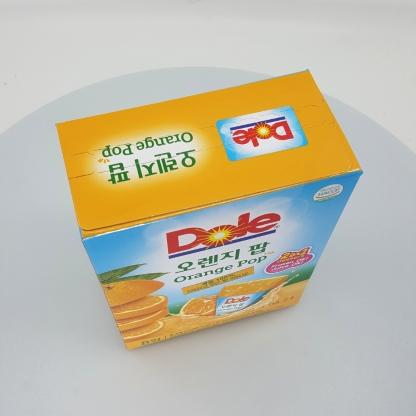--------496ML: (55, 68, 364, 350)
